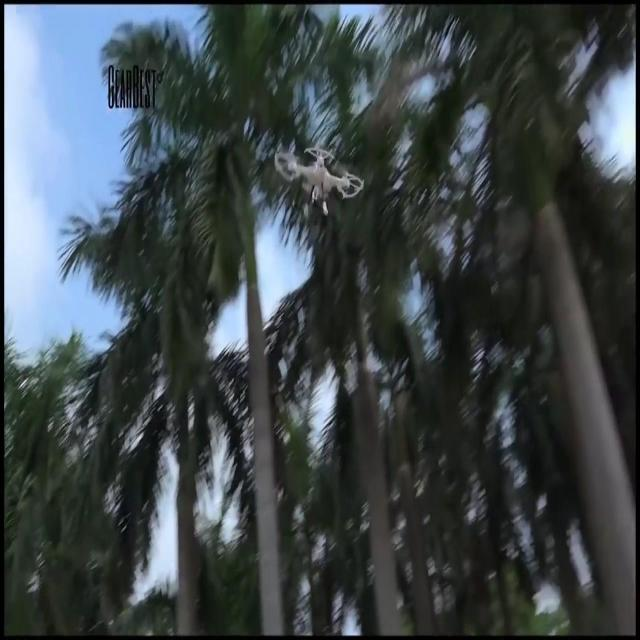UAV: (274, 148, 364, 216)
